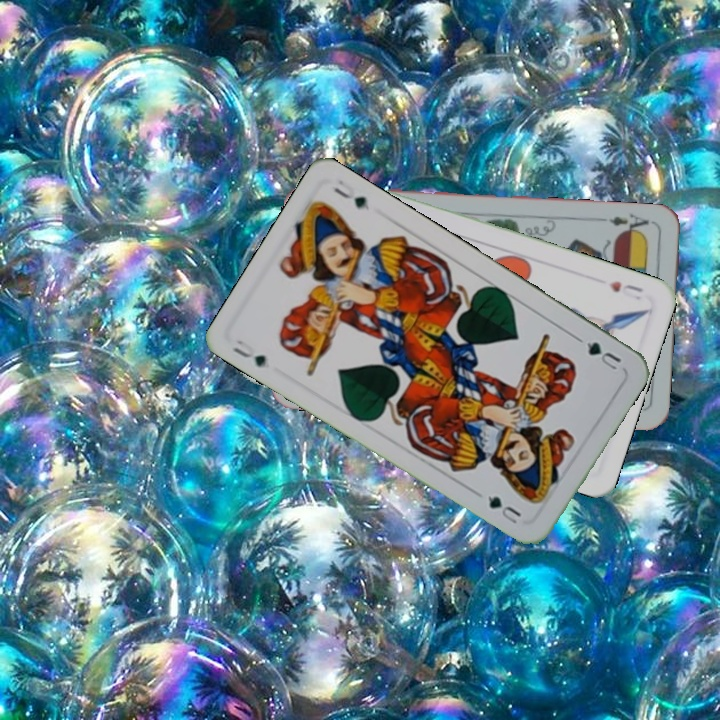EA: (605, 209, 655, 237)
GU: (226, 335, 269, 371), (582, 337, 624, 373)
HU: (605, 277, 646, 303)
